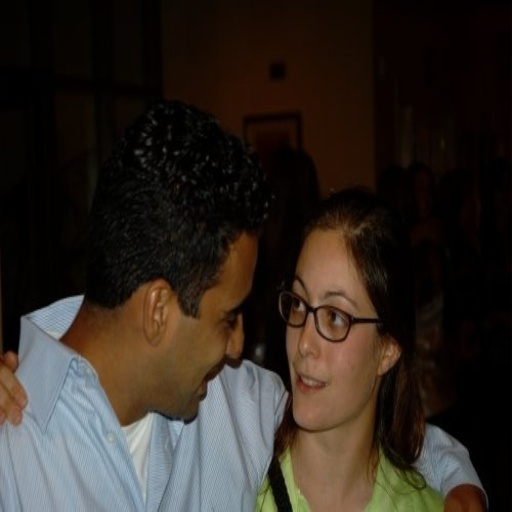hand: (0, 351, 27, 423), (443, 482, 488, 510)
